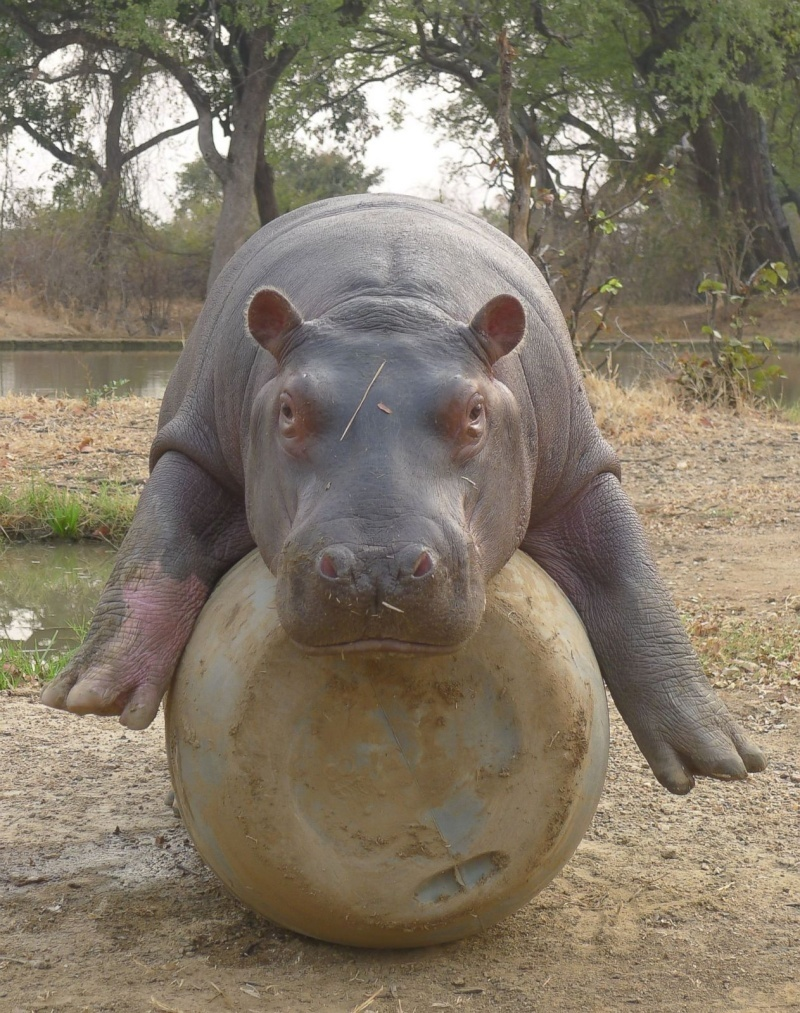hipopotamo: (46, 182, 769, 793)
